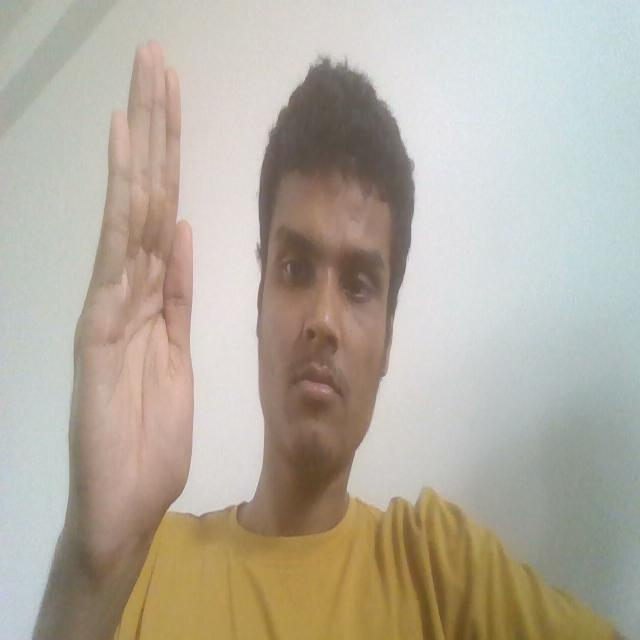Hello: (48, 33, 210, 616)
